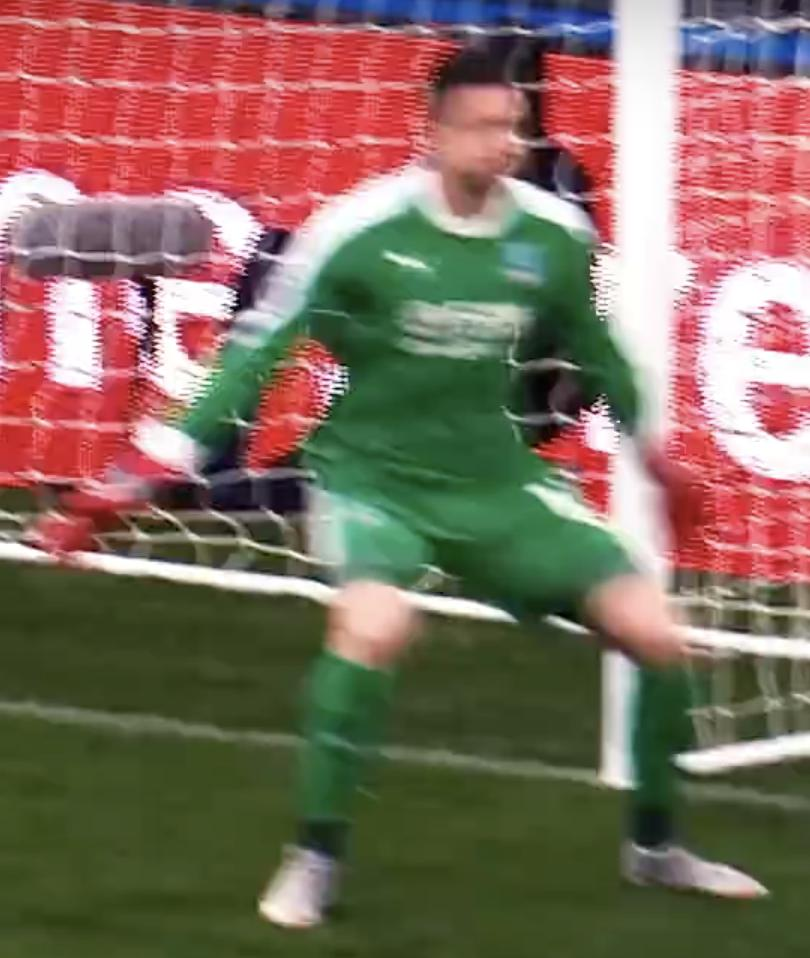goalkeeper: (0, 8, 810, 958)
